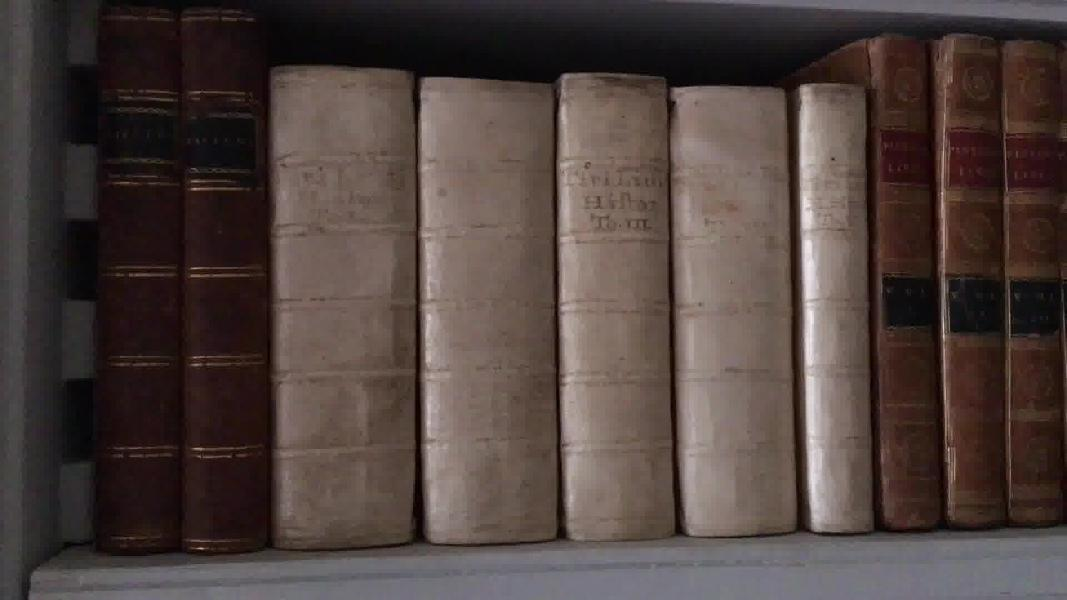Kk4-1_2: (94, 3, 273, 572)
Kk4-3_7: (273, 56, 888, 559)
